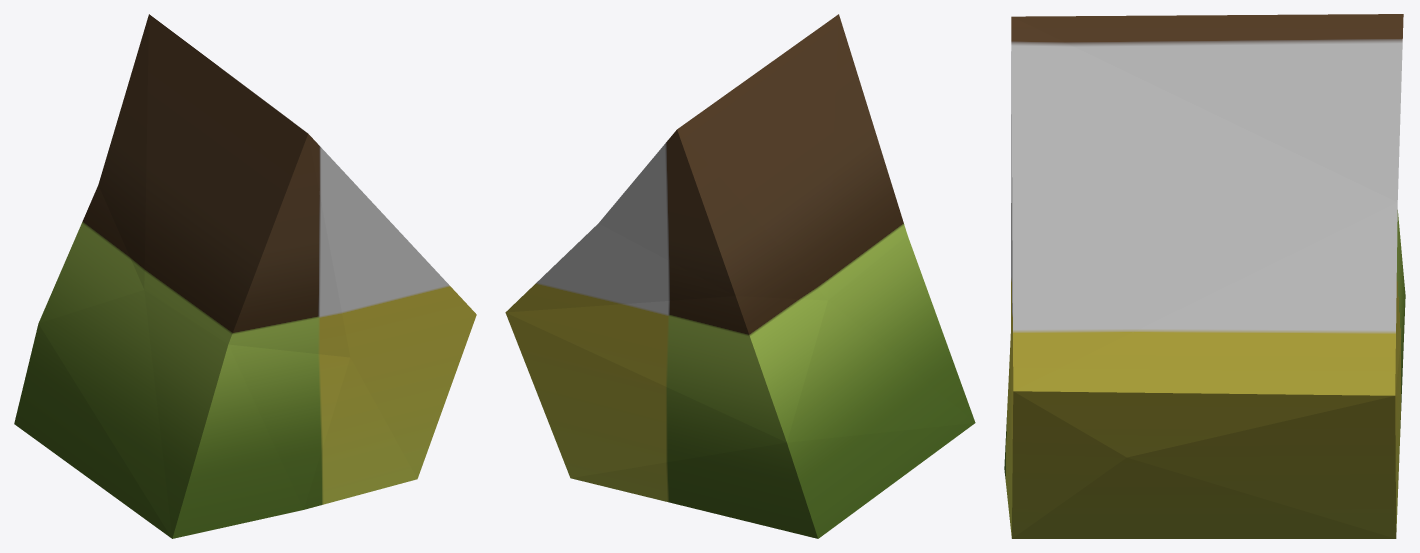
Rendered from Ruins_04.fbx.
The picture shows the model from 3 angles, left to right: view 1: azimuth 30°, elevation 25°; view 2: azimuth 150°, elevation 25°; view 3: azimuth 270°, elevation 25°; orthographic projection. The views are drawn at different scales.
Parts seen in each view (by area): view 1: Ruins_04; view 2: Ruins_04; view 3: Ruins_04.
Boxes of the visible parts, box(x1,y1,x2,y2) form: Ruins_04: box(14, 14, 476, 538); Ruins_04: box(505, 14, 975, 538); Ruins_04: box(1004, 14, 1405, 538).
Size of the model in its own units: 1.43 by 1.64 by 1.3.
